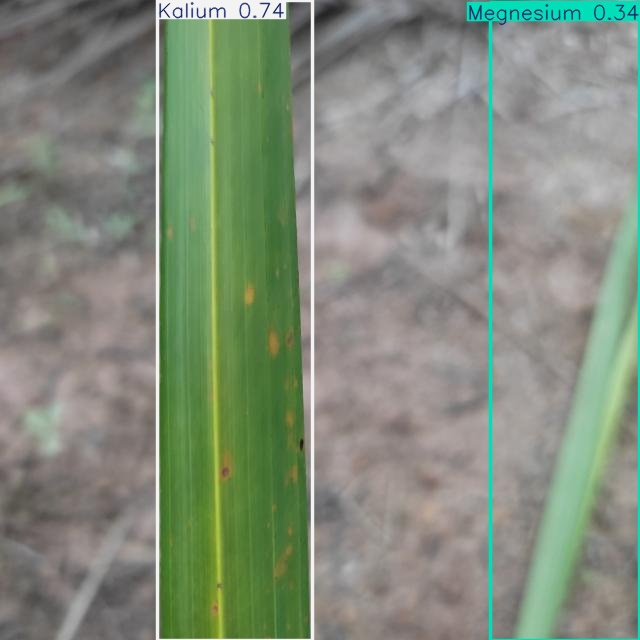Kalium: (157, 0, 312, 640)
Megnesium: (491, 2, 640, 640)
